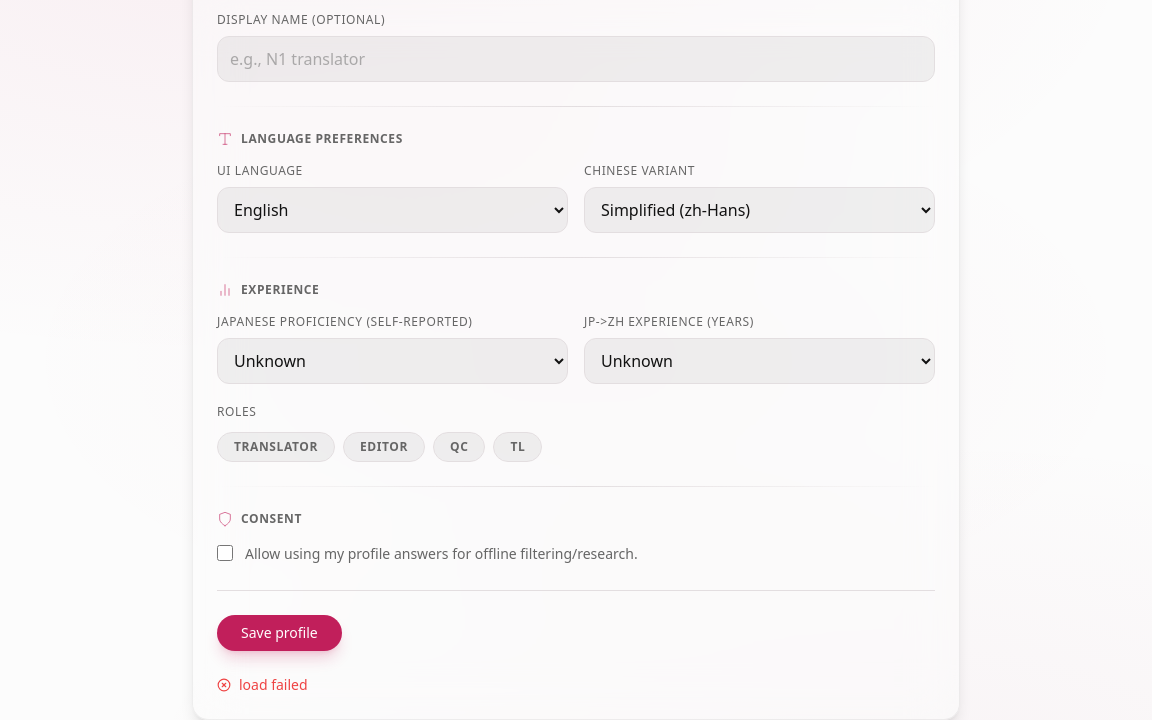
Test: OnboardingRoute › shows API errors when profile load or save fails
The width and height of the screenshot is (1152, 720).
(page scrolled)
expect the text "load failed" is shown: met, box [217,674,308,694]
Click the button "Save profile": (279, 632) [217,614,342,650]
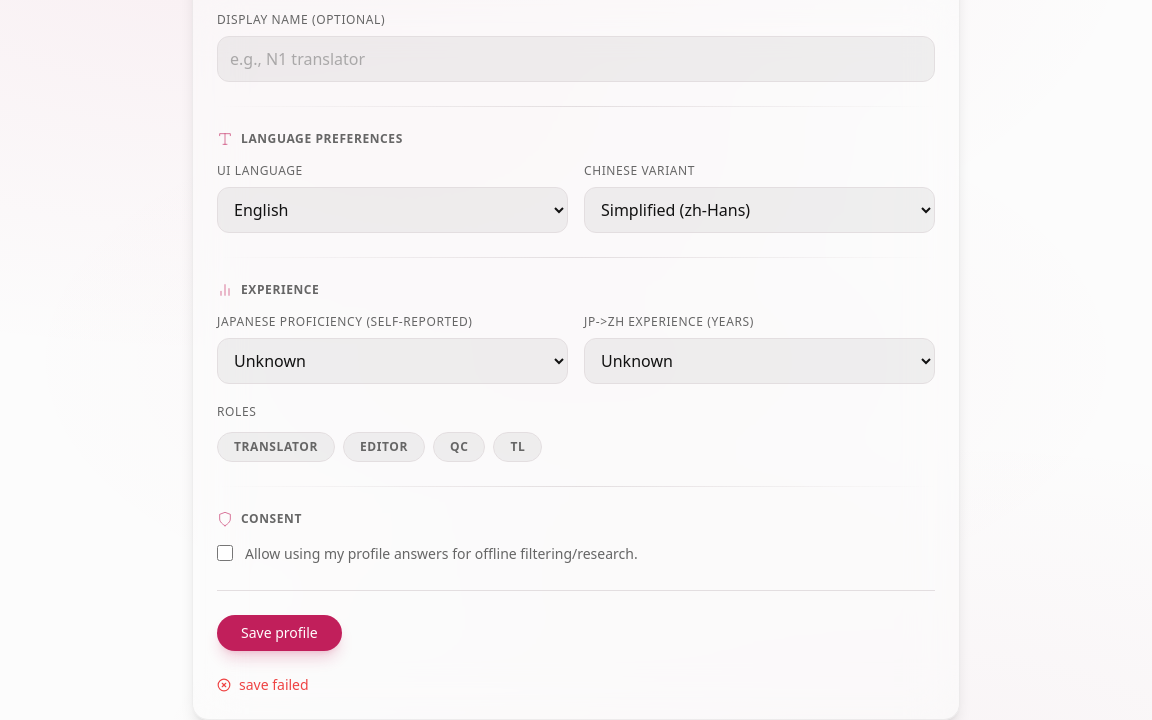
expect the text "save failed" is shown: met, box [217,674,309,694]
